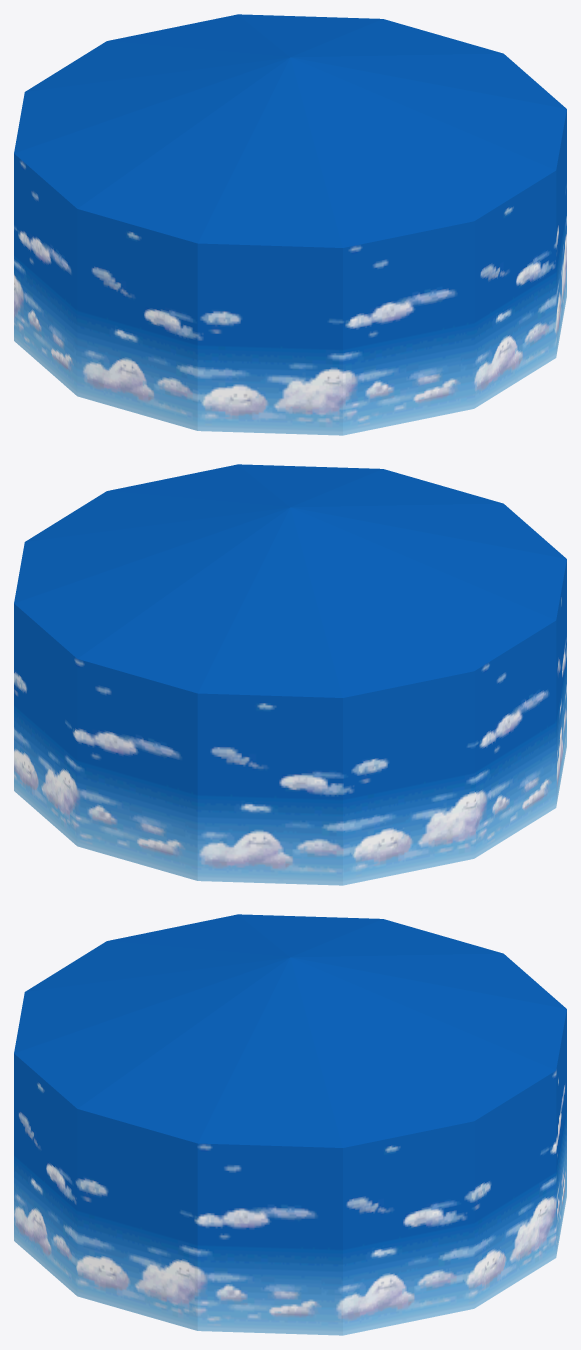
File: mini_block_course-mini_block_cours.glb
3 views of the same model, one above another, from view 1: azimuth 30°, elevation 25°; view 2: azimuth 150°, elevation 25°; view 3: azimuth 270°, elevation 25° (orthographic).
Visible parts, largest first — view 1: mini_block_cours; view 2: mini_block_cours; view 3: mini_block_cours.
Boxes of the visible parts, x1,y1,x2,y2 form: mini_block_cours: (14,14,566,435); mini_block_cours: (14,464,566,885); mini_block_cours: (14,914,566,1335).
Size of the model in its own units: 426 by 291 by 426.
Materials: 5 (5 with a texture image).
